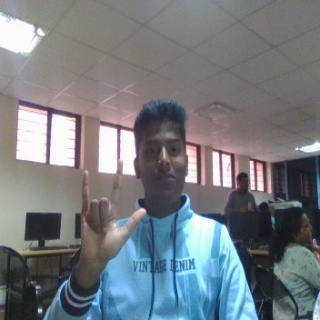Face: (132, 97, 190, 206)
I Love You: (74, 156, 147, 269)
